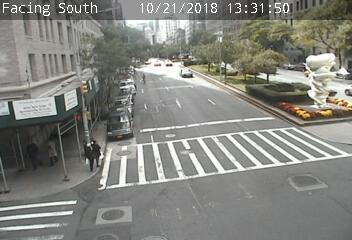car: (179, 68, 193, 78)
